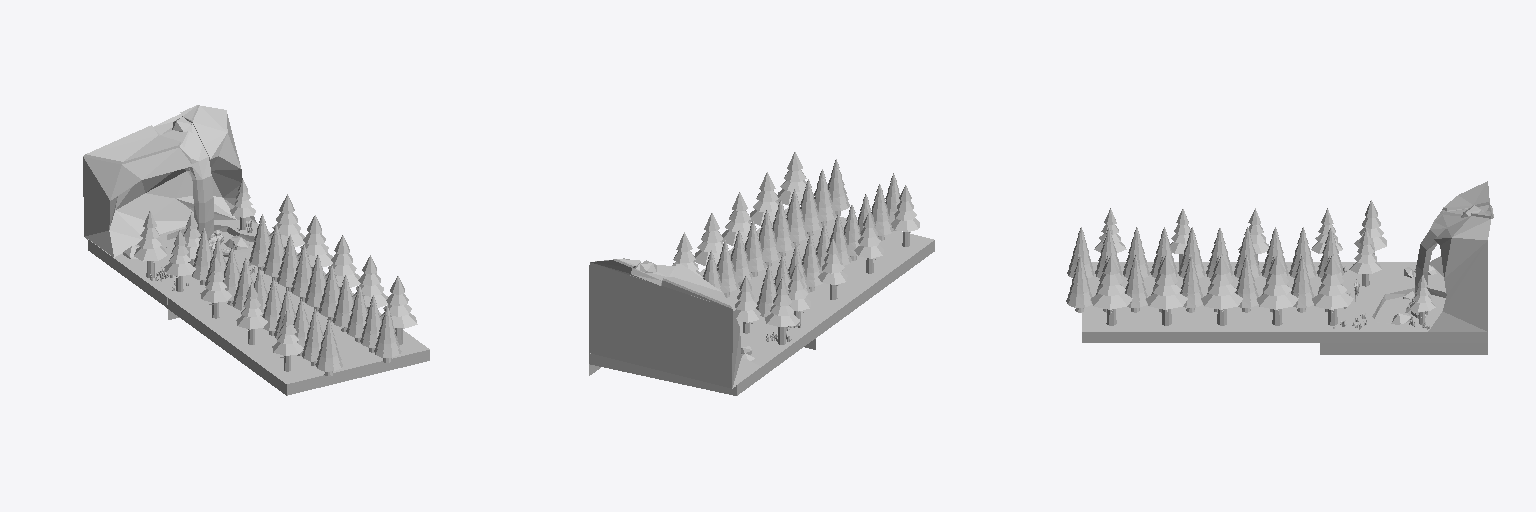
Rendered from jakatarub1.obj.
3 views of the same model, side by side, from view 1: azimuth 30°, elevation 25°; view 2: azimuth 150°, elevation 25°; view 3: azimuth 270°, elevation 25° (orthographic).
Parts seen in each view (by area): view 1: Cave_Icosphere, Cube_Cube.040, Cylinder, Cylinder.001, Tree.004_Cylinder.007, Tree.002_Cylinder.004, FloorCube_Cube.001, Tree_Cylinder.002, Tree.001_Cylinder.003; view 2: Cave_Icosphere, Cylinder, Cube_Cube.040, Cylinder.001, Tree.004_Cylinder.007, FloorCube_Cube.001, Tree.002_Cylinder.004, Tree_Cylinder.002, Tree.003_Cylinder.006; view 3: Cube_Cube.040, FloorCube_Cube.001, Cave_Icosphere, Tree.004_Cylinder.007, Cylinder.001, Cylinder, Tree.002_Cylinder.004, WaterPond_Plane.002, Tree.003_Cylinder.006, Tree_Cylinder.002, Tree.001_Cylinder.003.
Boxes of the visible parts, box(x1,y1,x2,y2) form: Cave_Icosphere: box(83, 105, 256, 257); Cube_Cube.040: box(166, 272, 429, 395); Cylinder: box(249, 214, 401, 362); Cylinder.001: box(192, 228, 342, 376); Tree.004_Cylinder.007: box(269, 194, 417, 344); Tree.002_Cylinder.004: box(165, 230, 303, 371); FloorCube_Cube.001: box(88, 220, 298, 319); Tree_Cylinder.002: box(134, 211, 166, 277); Tree.001_Cylinder.003: box(230, 180, 255, 229); Cave_Icosphere: box(589, 258, 760, 388); Cylinder: box(703, 159, 849, 297); Cube_Cube.040: box(700, 207, 934, 338); Cylinder.001: box(756, 173, 899, 317); Tree.004_Cylinder.007: box(672, 152, 806, 277); FloorCube_Cube.001: box(589, 308, 815, 395); Tree.002_Cylinder.004: box(788, 185, 919, 326); Tree_Cylinder.002: box(765, 277, 799, 344); Tree.003_Cylinder.006: box(734, 276, 760, 333); Cube_Cube.040: box(1082, 262, 1322, 342); FloorCube_Cube.001: box(1320, 262, 1487, 354); Cave_Icosphere: box(1415, 181, 1493, 331); Tree.004_Cylinder.007: box(1091, 255, 1353, 325); Cylinder.001: box(1067, 227, 1343, 278); Cylinder: box(1066, 255, 1330, 312); Tree.002_Cylinder.004: box(1094, 208, 1342, 269); WaterPond_Plane.002: box(1375, 294, 1445, 323); Tree.003_Cylinder.006: box(1349, 228, 1381, 286); Tree_Cylinder.002: box(1354, 200, 1386, 256); Tree.001_Cylinder.003: box(1410, 275, 1435, 324).
Size of the model in its own units: 14.42 by 11.51 by 35.56.